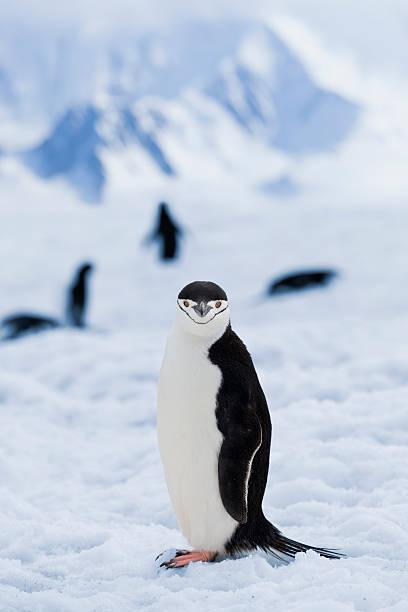chinstrap: (122, 273, 335, 588)
